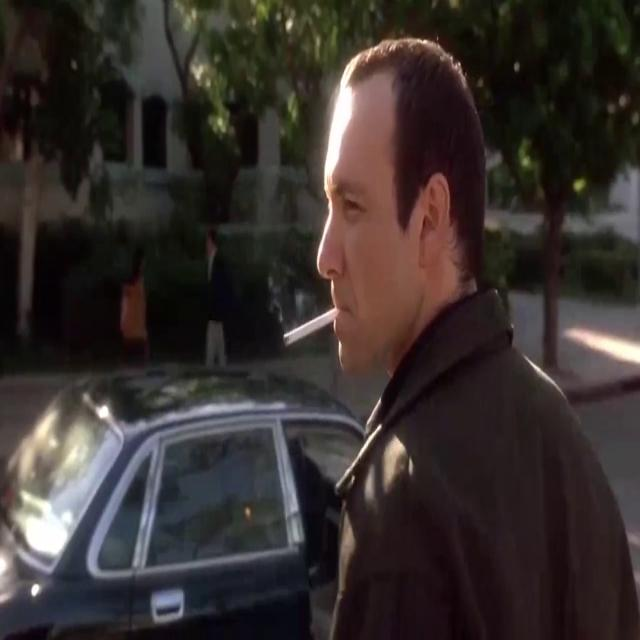Smooking: (274, 300, 334, 364)
